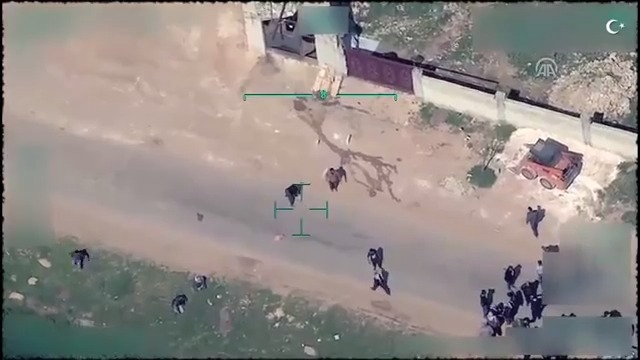arac: (509, 129, 584, 194)
insan: (365, 268, 395, 299), (521, 206, 543, 237), (499, 262, 518, 290), (324, 163, 341, 193), (475, 286, 490, 320)
